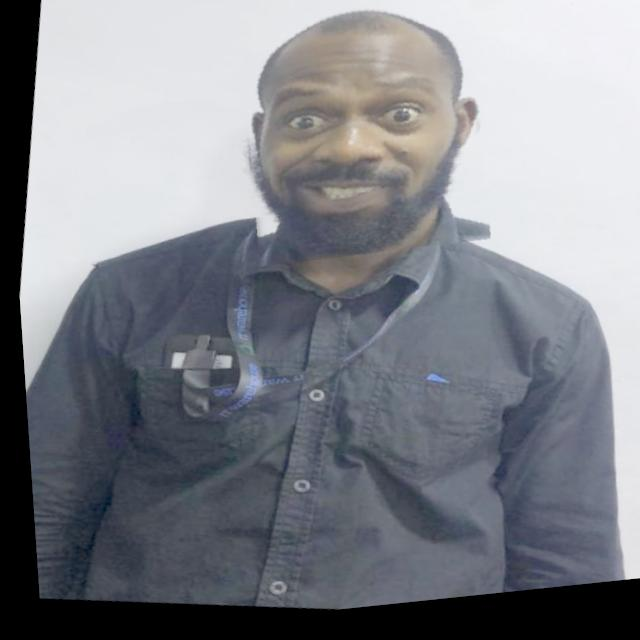happy: (214, 0, 512, 297)
